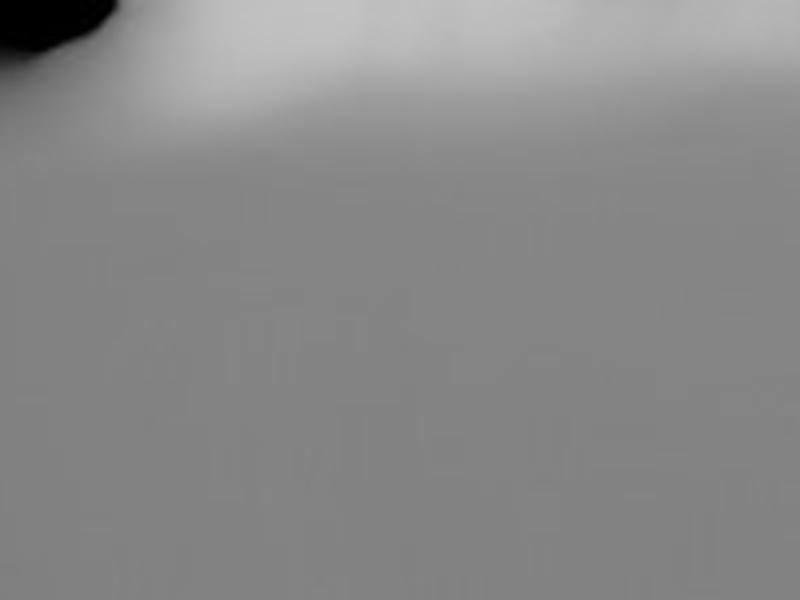defect: (1, 1, 118, 62)
